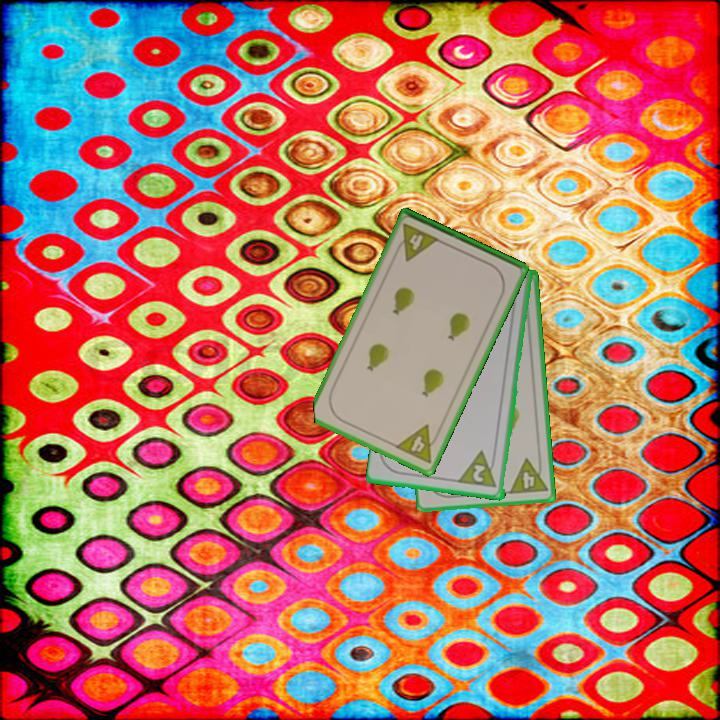2p: (457, 448, 500, 491)
4p: (392, 421, 444, 467), (391, 220, 442, 264), (506, 454, 550, 497)
